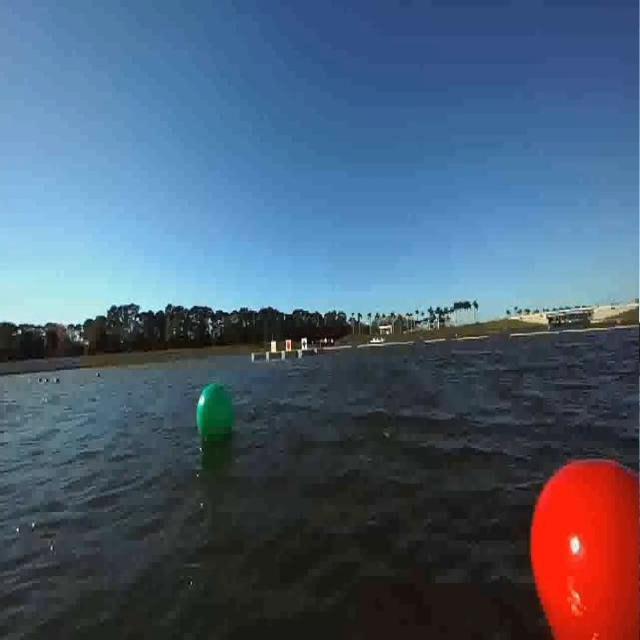green-buoy: (196, 381, 236, 443)
red-buoy: (510, 446, 638, 640)
